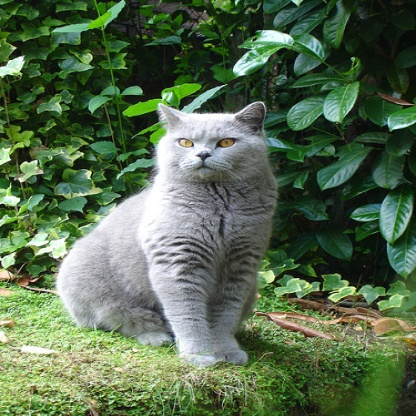british_shorthair: (55, 102, 277, 369)
